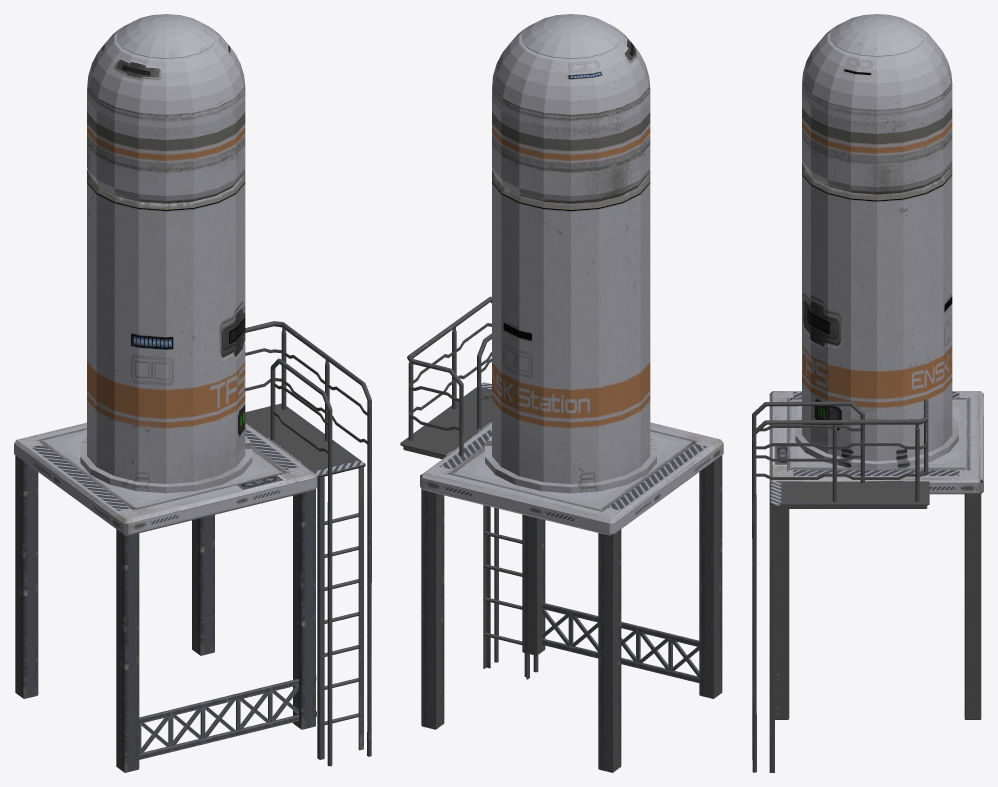
Rendered from 工业罐子01.obj.
The picture shows the model from 3 angles, left to right: view 1: azimuth 30°, elevation 25°; view 2: azimuth 150°, elevation 25°; view 3: azimuth 270°, elevation 25°; orthographic projection. The views are drawn at different scales.
Visible parts, largest first — view 1: Capsule033, Object072, ChamferBox025, ChamferBox027, ChamferBox028, ChamferBox026, ChamferBox029, Box460, Box459, Box449; view 2: Capsule033, ChamferBox025, Object072, ChamferBox028, ChamferBox029, ChamferBox027, ChamferBox026, Box460, Box449, Box459; view 3: Capsule033, Object072, ChamferBox025, ChamferBox029, ChamferBox026.
Part boxes in pixels (box(x1,y1,x2,y2)): Capsule033: box(80, 14, 252, 493); Object072: box(245, 321, 371, 766); ChamferBox025: box(14, 422, 317, 535); ChamferBox027: box(116, 529, 139, 772); ChamferBox028: box(15, 455, 38, 698); ChamferBox026: box(293, 489, 315, 729); ChamferBox029: box(192, 515, 214, 655); Box460: box(225, 675, 316, 737); Box459: box(139, 728, 248, 759); Box449: box(139, 693, 248, 723); Capsule033: box(485, 14, 656, 493); ChamferBox025: box(420, 422, 723, 535); Object072: box(400, 296, 538, 679); ChamferBox028: box(598, 529, 621, 772); ChamferBox029: box(421, 489, 444, 729); ChamferBox027: box(699, 455, 722, 698); ChamferBox026: box(522, 514, 545, 655); Box460: box(542, 602, 598, 658); Box449: box(592, 615, 699, 646); Box459: box(592, 651, 699, 682); Capsule033: box(795, 14, 958, 469); Object072: box(752, 399, 929, 772); ChamferBox025: box(769, 391, 983, 494); ChamferBox029: box(964, 493, 981, 719); ChamferBox026: box(775, 509, 789, 719).
Size of the model in its own units: 8.71 by 24.8 by 7.6.
